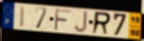7: (112, 12, 128, 37), (35, 7, 48, 30)
F: (53, 7, 72, 32)
I: (19, 6, 27, 29)
J: (73, 11, 88, 34)
R: (91, 11, 112, 36)
